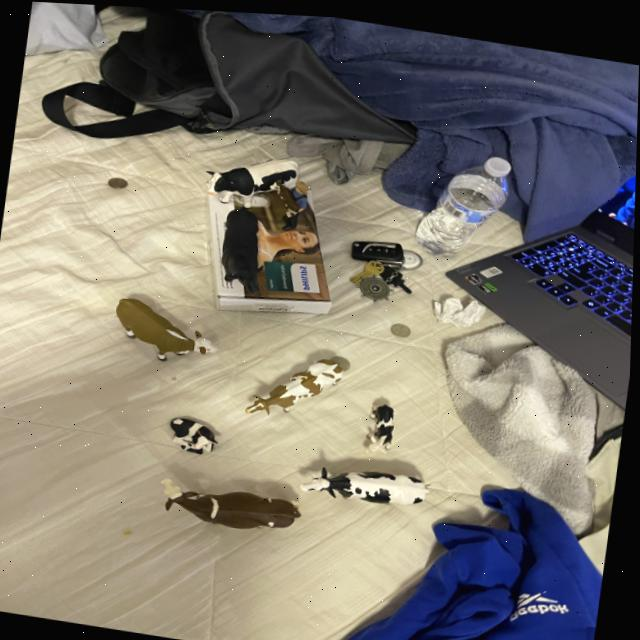cow: (106, 291, 222, 377), (159, 476, 306, 535), (243, 347, 350, 427), (302, 458, 433, 504), (205, 151, 303, 203), (221, 203, 261, 290), (164, 408, 225, 460), (369, 398, 398, 447), (273, 178, 303, 214)
person: (293, 177, 309, 205)
